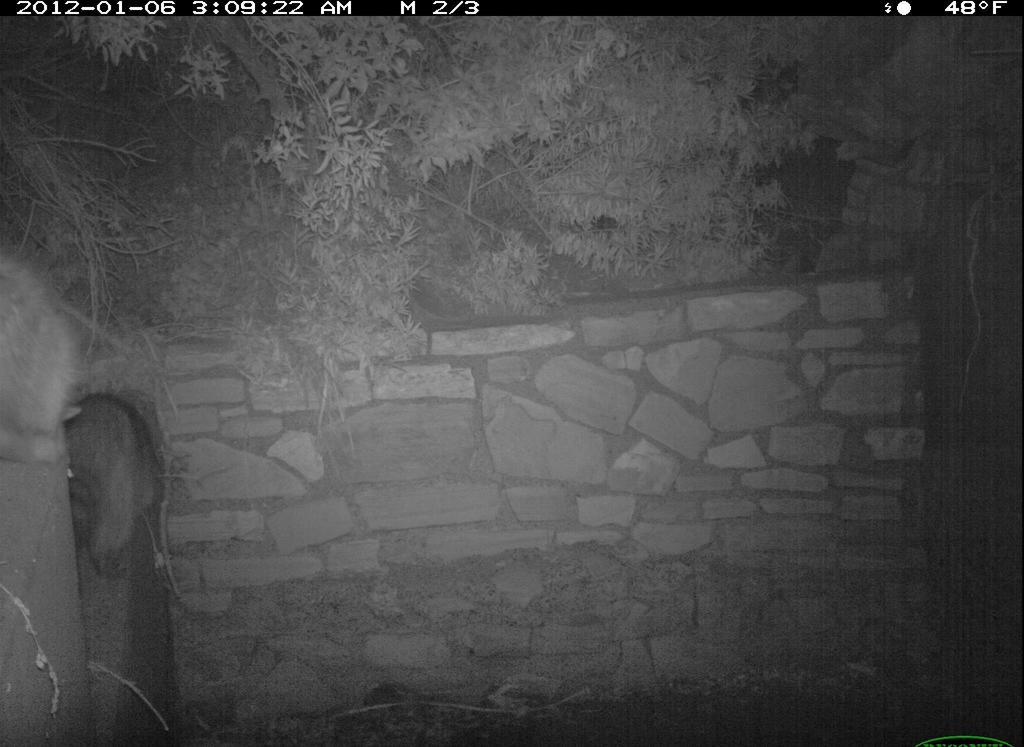raccoon: (1, 239, 166, 578)
